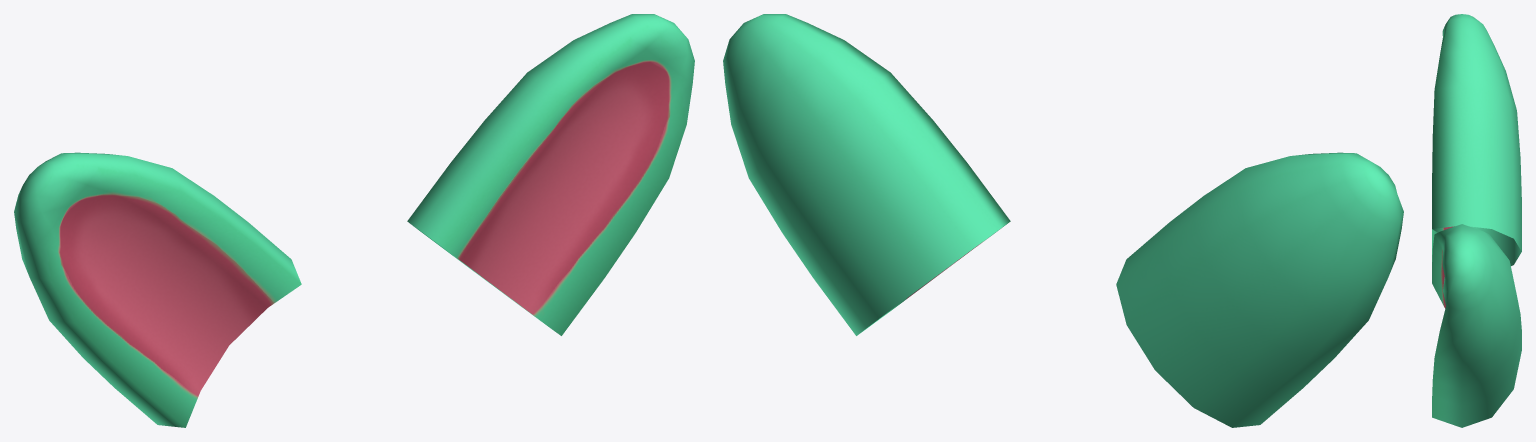
File: importerSkin17_ear.fbx
3 views of the same model, side by side, from view 1: azimuth 30°, elevation 25°; view 2: azimuth 150°, elevation 25°; view 3: azimuth 270°, elevation 25° (orthographic). The views are drawn at different scales.
Visible parts, largest first — view 1: importerSkin17_ear_geo; view 2: importerSkin17_ear_geo; view 3: importerSkin17_ear_geo.
Boxes of the visible parts, bbox=[...] form: importerSkin17_ear_geo: bbox=[14, 14, 694, 427]; importerSkin17_ear_geo: bbox=[723, 14, 1403, 427]; importerSkin17_ear_geo: bbox=[1432, 14, 1521, 427].
Bounding box in the file's own units: 3.47 × 1.44 × 0.5147.
Materials: 1 (1 with a texture image).
